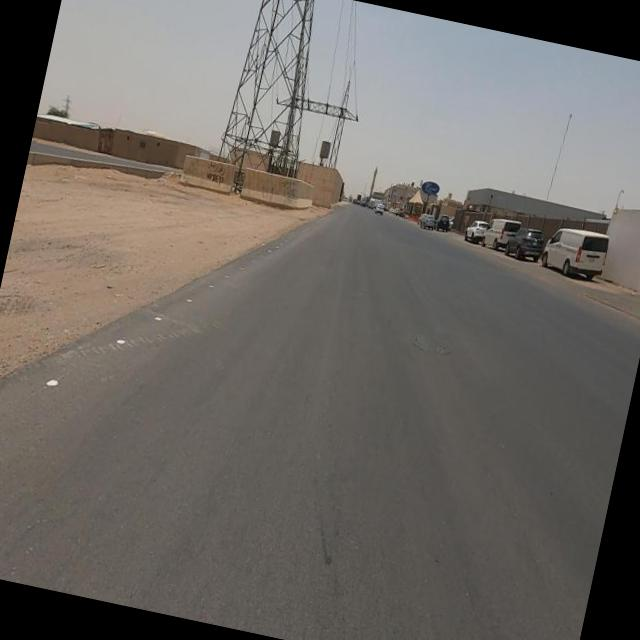debris: (170, 127, 256, 220), (253, 161, 320, 231)
